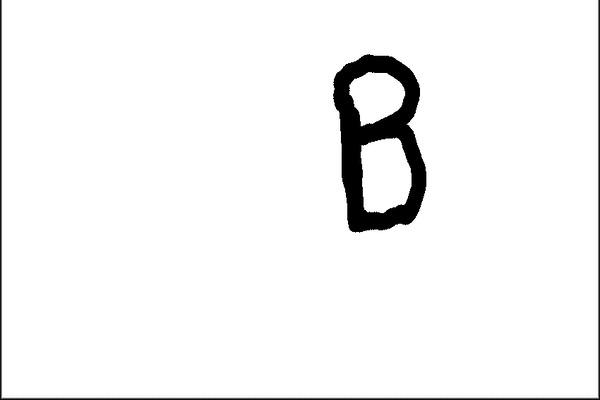B: (324, 49, 430, 237)
